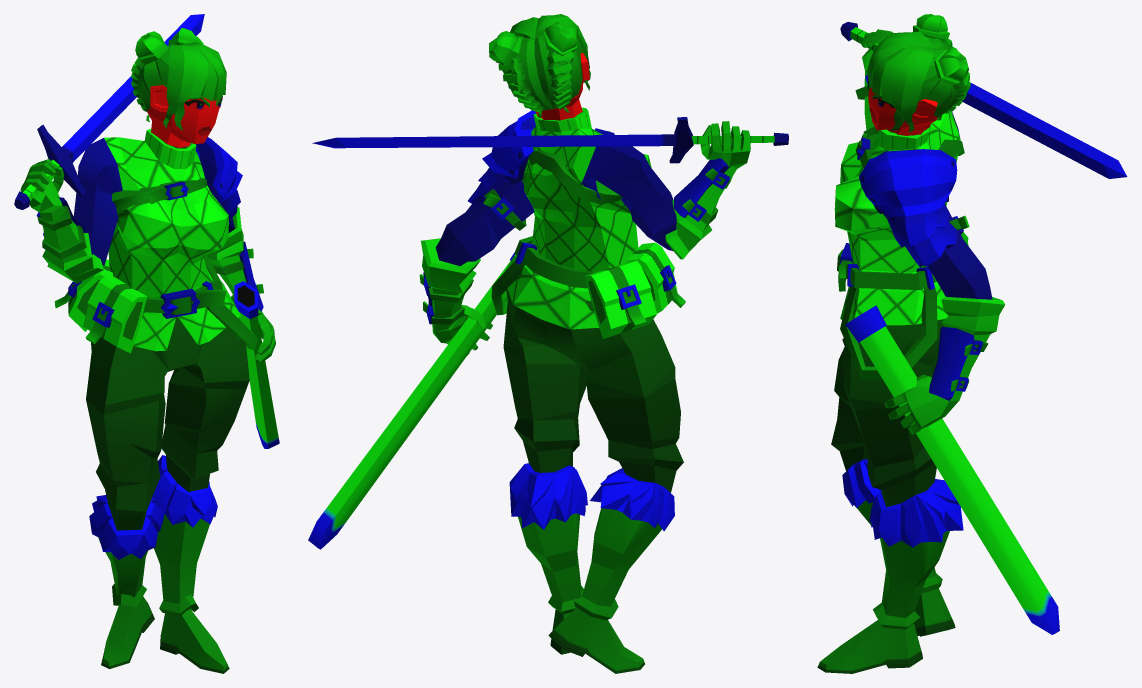
The model's file is F_Fighter_prePosed.fbx.
3 views of the same model, side by side, from view 1: azimuth 30°, elevation 25°; view 2: azimuth 150°, elevation 25°; view 3: azimuth 270°, elevation 25° (orthographic). The views are drawn at different scales.
Visible parts, largest first — view 1: F_Fighter_prePosed; view 2: F_Fighter_prePosed; view 3: F_Fighter_prePosed.
Part boxes in pixels (bbox=[...]): F_Fighter_prePosed: bbox=[14, 14, 279, 673]; F_Fighter_prePosed: bbox=[308, 14, 788, 673]; F_Fighter_prePosed: bbox=[817, 14, 1127, 673].
Size of the model in its own units: 127 by 206 by 89.77.
